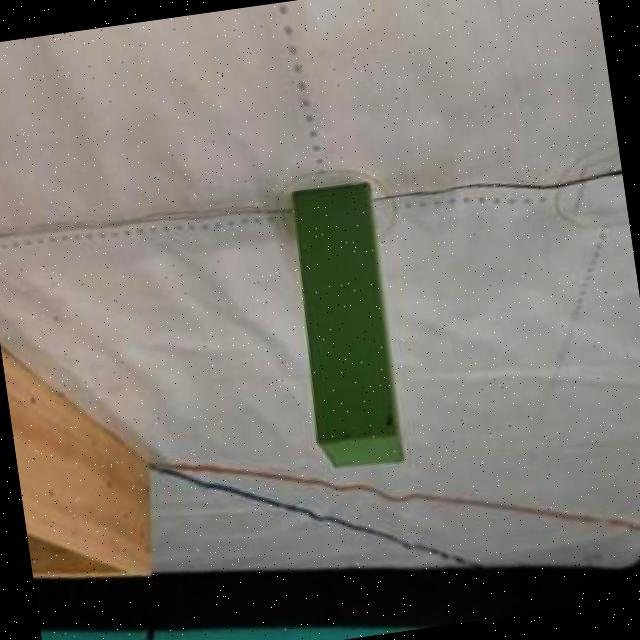greenbox: (276, 180, 411, 478)
